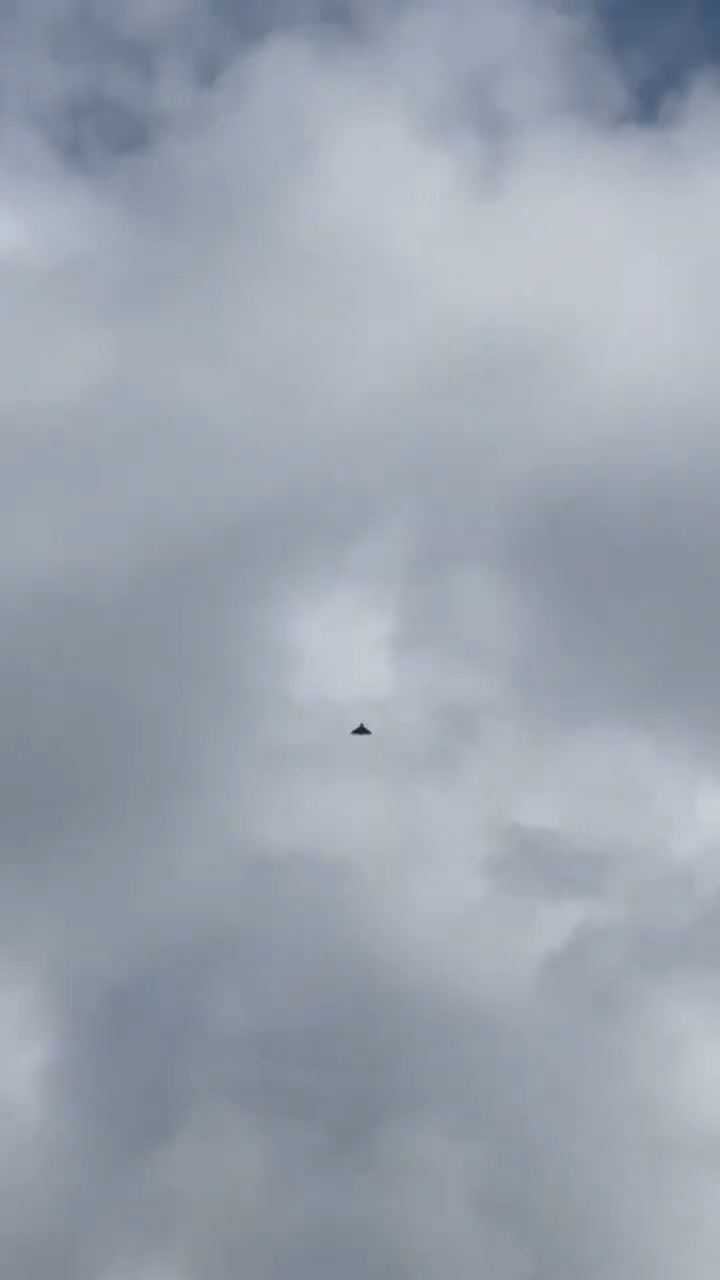shahed: (348, 720, 373, 737)
